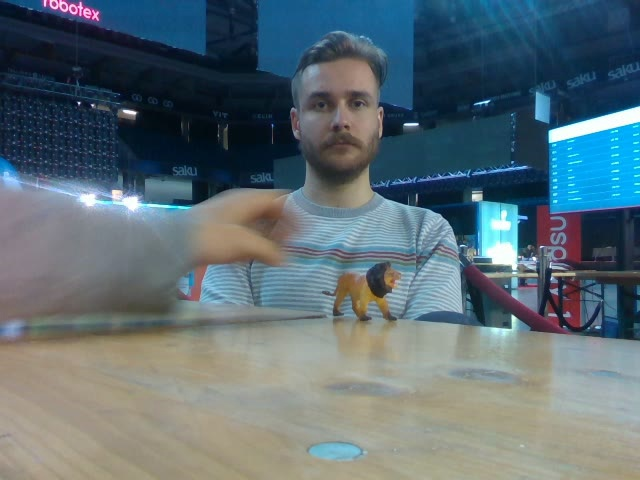toy: (321, 260, 404, 322)
